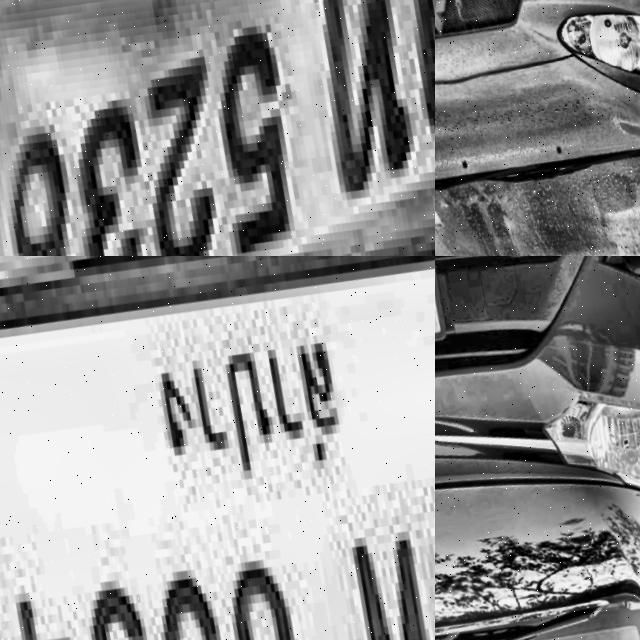license-plate: (0, 256, 435, 640), (0, 0, 435, 256)
